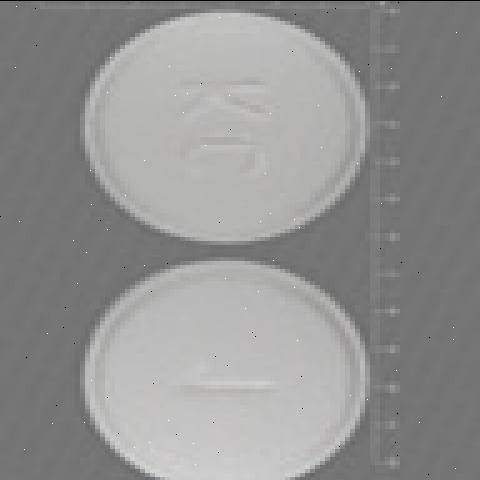Pill: (59, 4, 387, 252), (57, 253, 389, 480)
